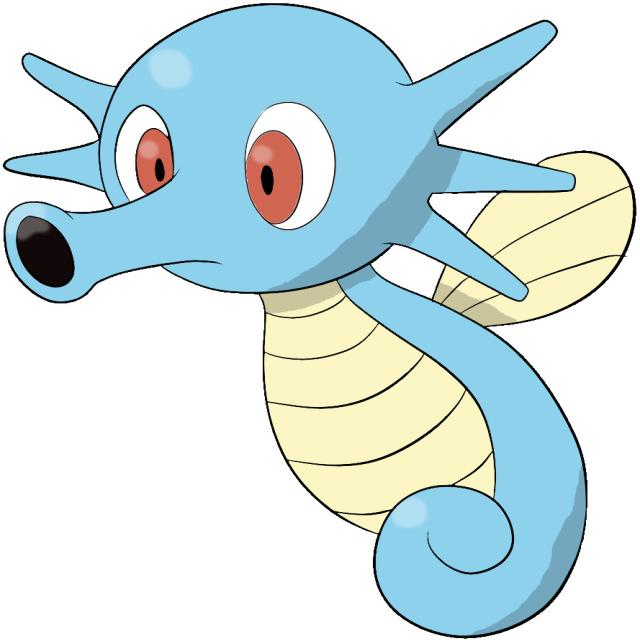Horsea: (1, 0, 640, 624)
